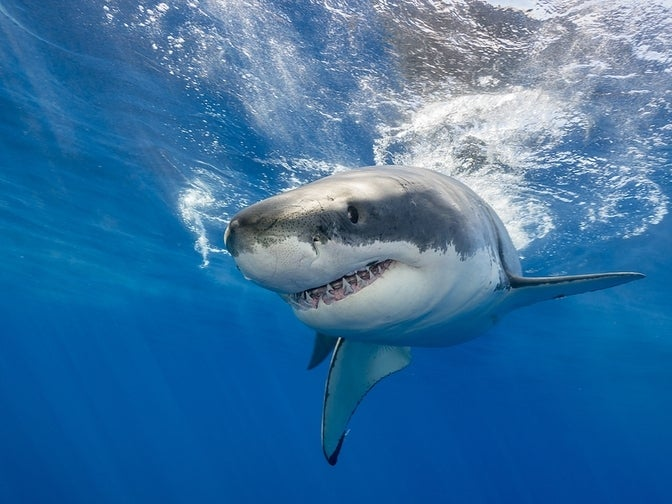shark: (220, 157, 649, 420)
